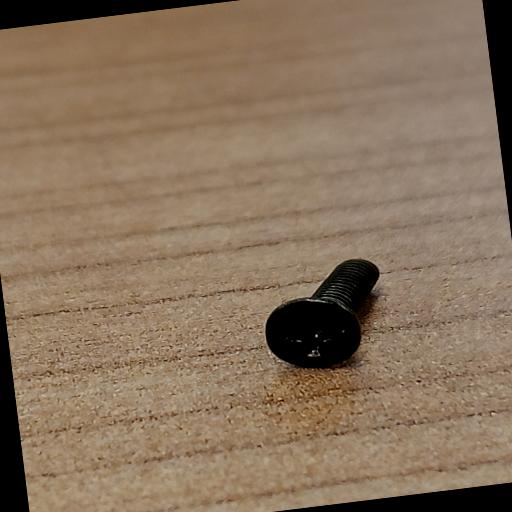Phillips: (266, 259, 379, 368)
